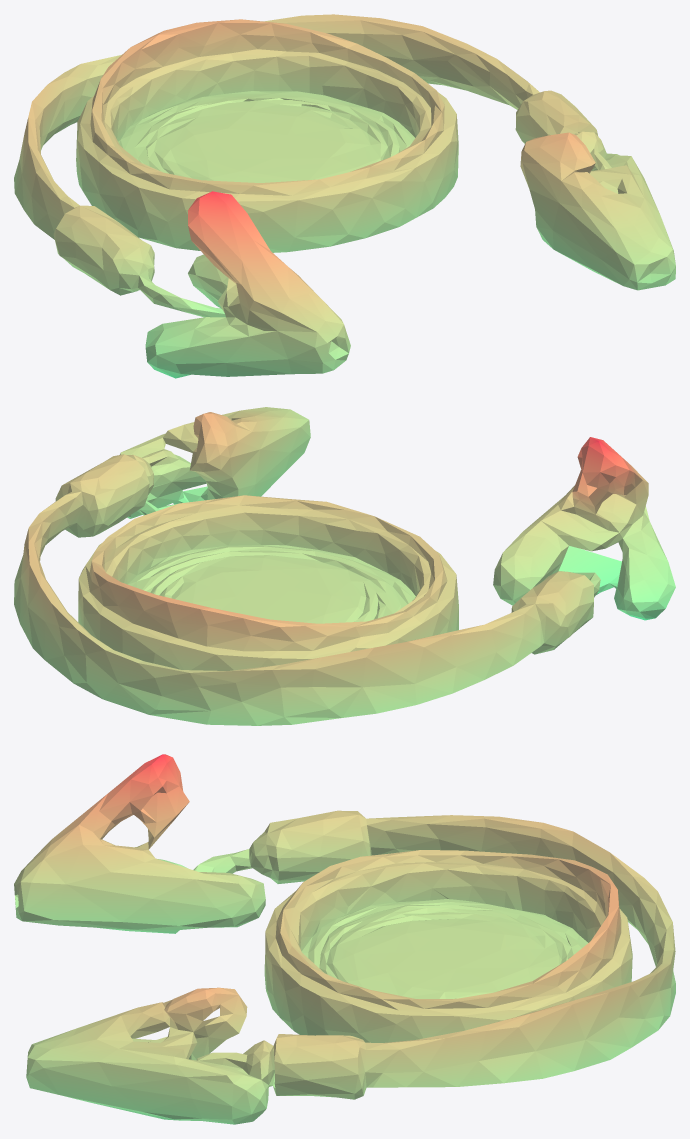
File: 86_cyb_laser_gradient_fish_scales_2926_2026_10_03_07d64c.glb
The picture shows the model from 3 angles, top to bottom: view 1: azimuth 30°, elevation 25°; view 2: azimuth 150°, elevation 25°; view 3: azimuth 270°, elevation 25°; orthographic projection.
Visible parts, largest first — view 1: geometry_0; view 2: geometry_0; view 3: geometry_0.
Boxes of the visible parts, x1,y1,x2,y2 form: geometry_0: (14,14,675,378); geometry_0: (14,407,675,725); geometry_0: (14,754,675,1124).
Bounding box in the file's own units: 0.9218 × 0.2905 × 1.
